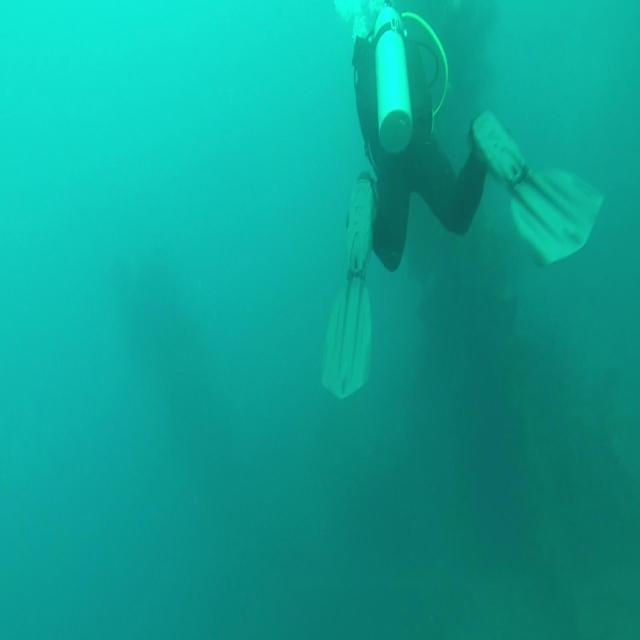human: (320, 5, 604, 399)
